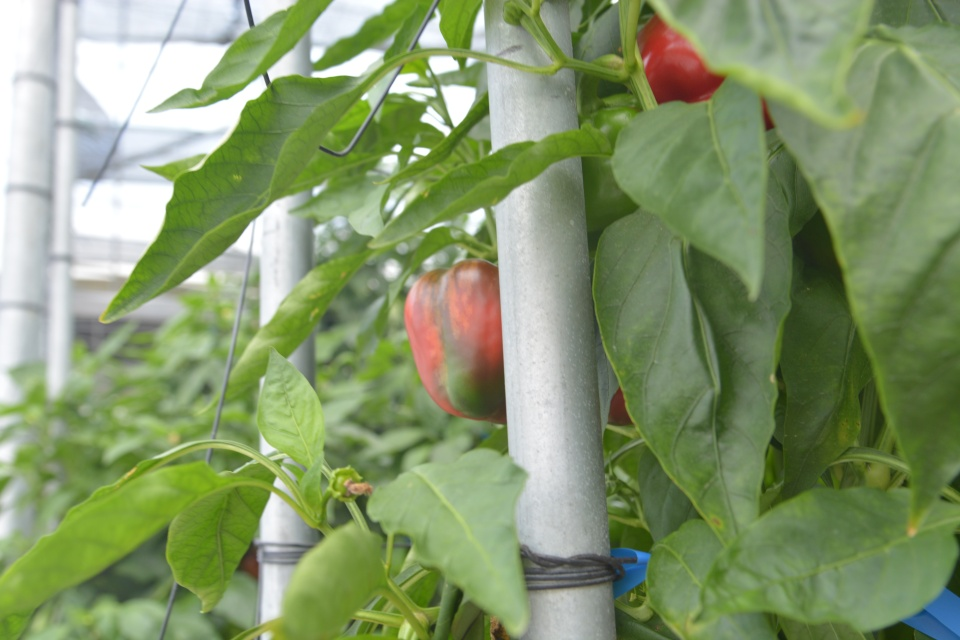fruit: (401, 255, 507, 427), (634, 11, 776, 132), (576, 88, 645, 235)
